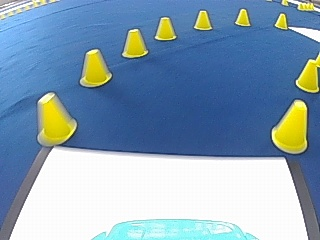cone: (35, 92, 77, 145), (271, 100, 309, 153), (79, 48, 112, 87), (295, 58, 319, 92), (121, 28, 148, 58), (154, 16, 176, 41), (193, 9, 212, 31), (234, 8, 251, 27), (274, 12, 288, 30)
